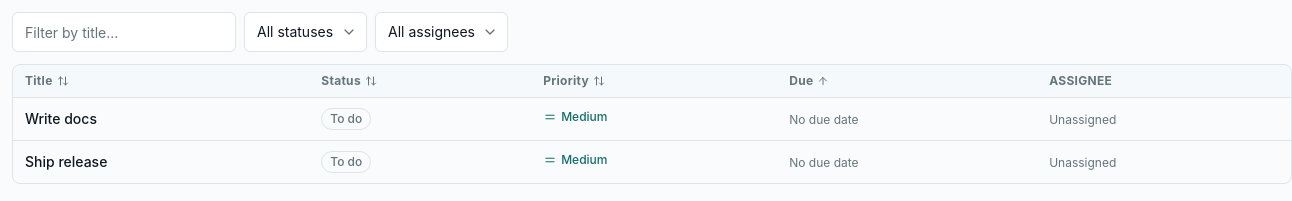
Test: TaskListView › filters tasks by title
Type "ship" into the field with placeholder "Filter by title..." at (124, 32), box 12,12 -> 236,52
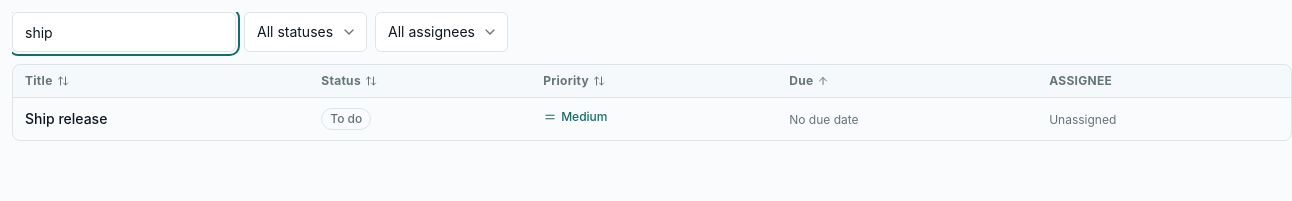
Expected: the text "Ship release" is shown, 13,98 -> 309,140
Expected: the text "Write docs" is gone
